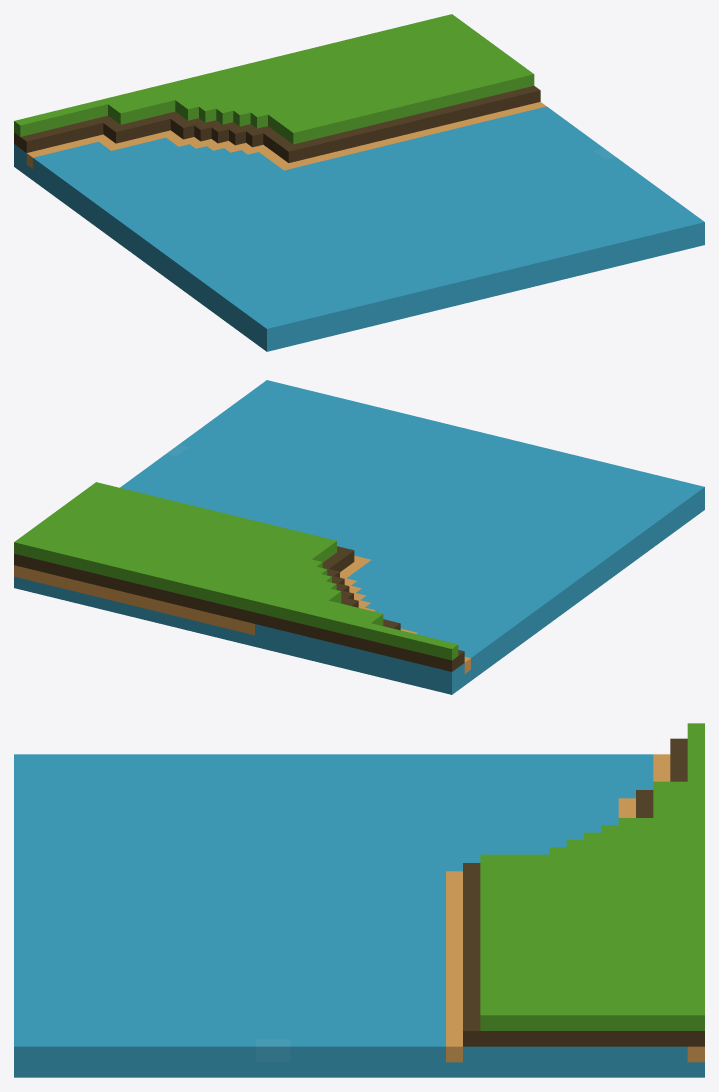
File: river3-0.obj
The picture shows the model from 3 angles, top to bottom: view 1: azimuth 30°, elevation 25°; view 2: azimuth 150°, elevation 25°; view 3: azimuth 270°, elevation 25°; orthographic projection. The views are drawn at different scales.
Size of the model in its own units: 4 by 0.4 by 4.
